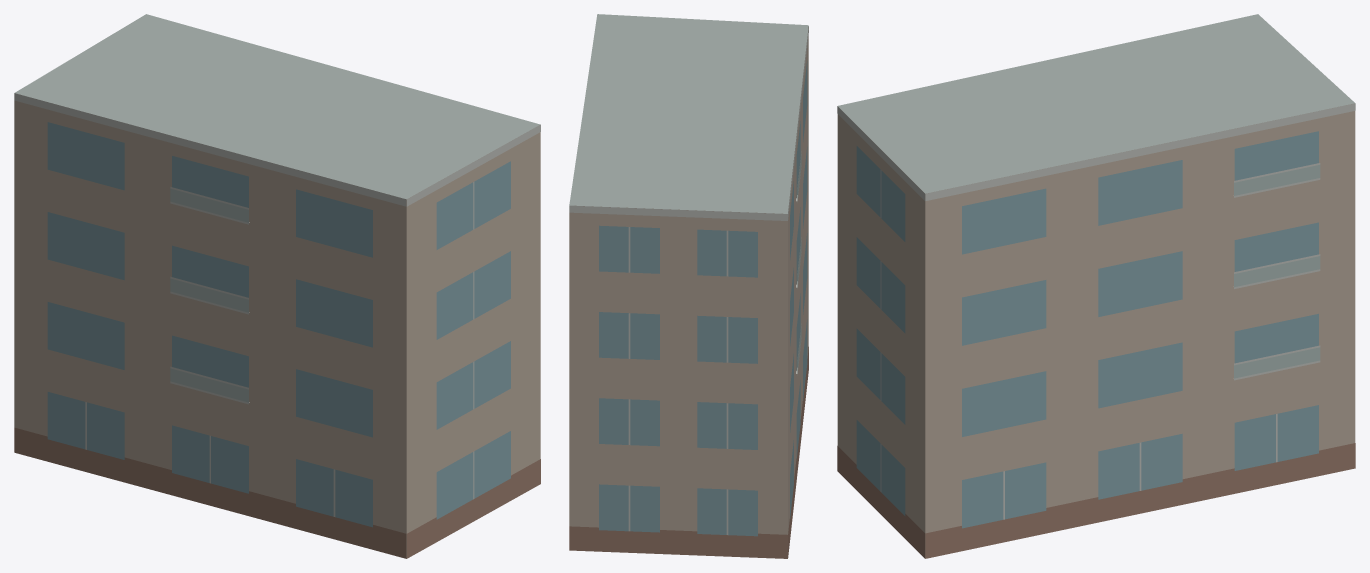
File: survey-upis-32583248.glb
The picture shows the model from 3 angles, left to right: view 1: azimuth 30°, elevation 25°; view 2: azimuth 150°, elevation 25°; view 3: azimuth 270°, elevation 25°; orthographic projection. The views are drawn at different scales.
Visible parts, largest first — view 1: survey-upis-32583248.tmp; view 2: survey-upis-32583248.tmp; view 3: survey-upis-32583248.tmp.
Boxes of the visible parts, box(x1,y1,x2,y2) form: survey-upis-32583248.tmp: box(14, 14, 540, 558); survey-upis-32583248.tmp: box(569, 14, 808, 558); survey-upis-32583248.tmp: box(837, 14, 1355, 558).
Size of the model in its own units: 12.46 by 11.8 by 15.18.
